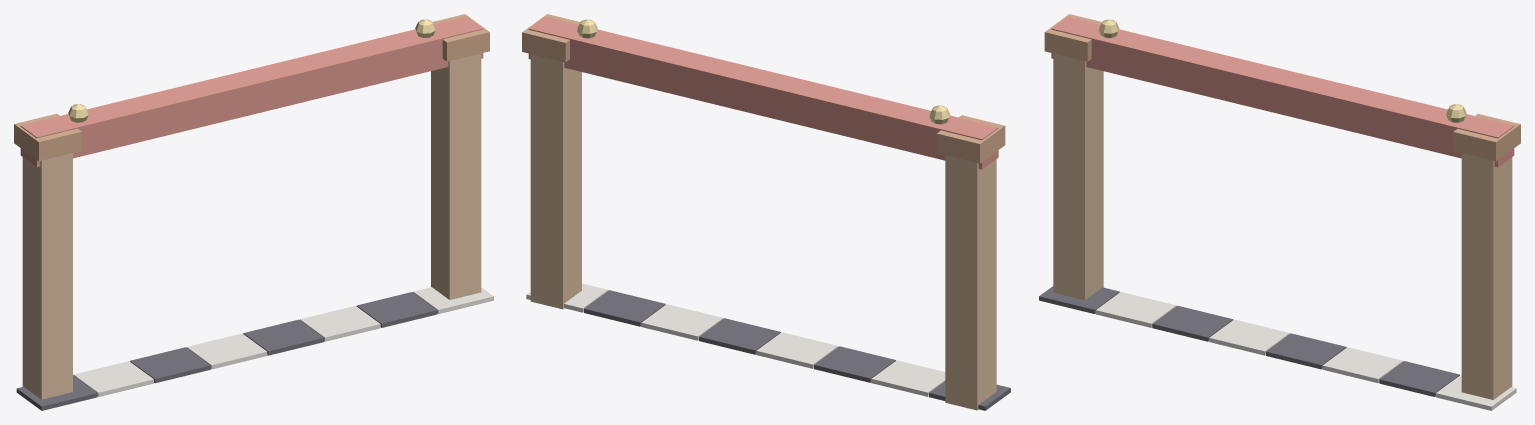
The model's file is arco_meta.glb.
The picture shows the model from 3 angles, left to right: view 1: azimuth 30°, elevation 25°; view 2: azimuth 150°, elevation 25°; view 3: azimuth 330°, elevation 25°; orthographic projection.
Visible parts, largest first — view 1: arco_meta; view 2: arco_meta; view 3: arco_meta.
Part boxes in pixels (box(x1,y1,x2,y2)): arco_meta: box(14, 14, 493, 410); arco_meta: box(522, 14, 1010, 410); arco_meta: box(1039, 14, 1520, 410).
Size of the model in its own units: 8.87 by 5.28 by 0.985.
